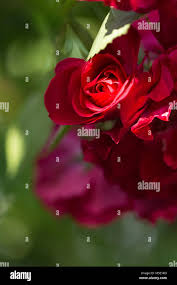lale: (27, 42, 175, 139)
